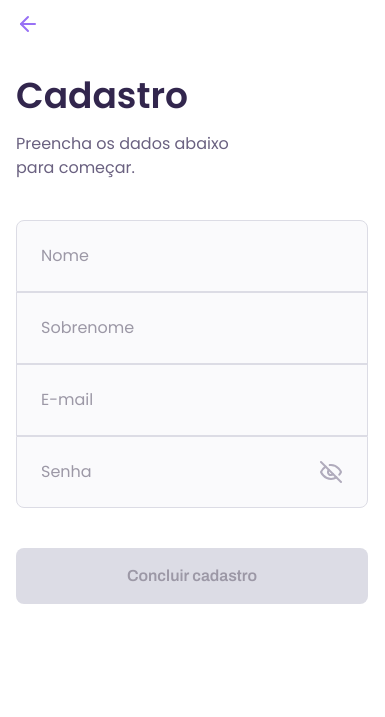
Test: Register Page › error messages should be displayed on blur when an input is filled incorrectly
Click the field labelled "Nome" at (192, 256), box 16,220 -> 368,292
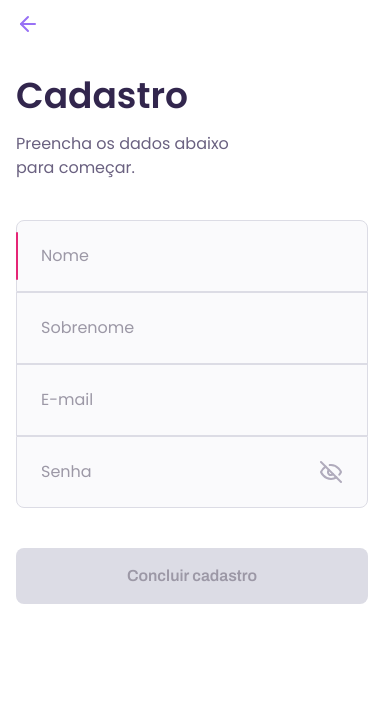
Press Tab
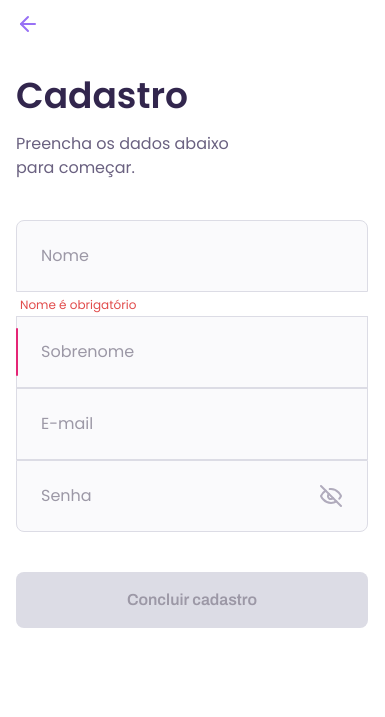
Press Tab
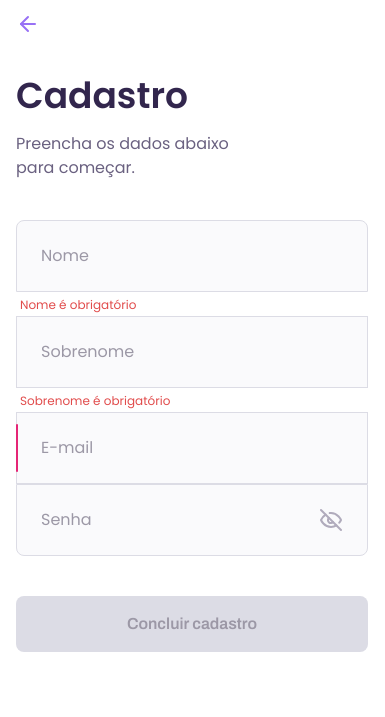
Type "john-doe.com" into the field labelled "E-mail" at (192, 448), box 16,412 -> 368,484
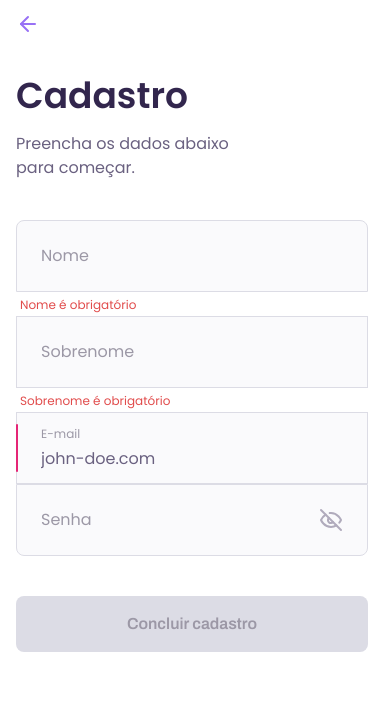
Type "123456" into the password field labelled "Senha" at (192, 520), box 16,484 -> 368,556
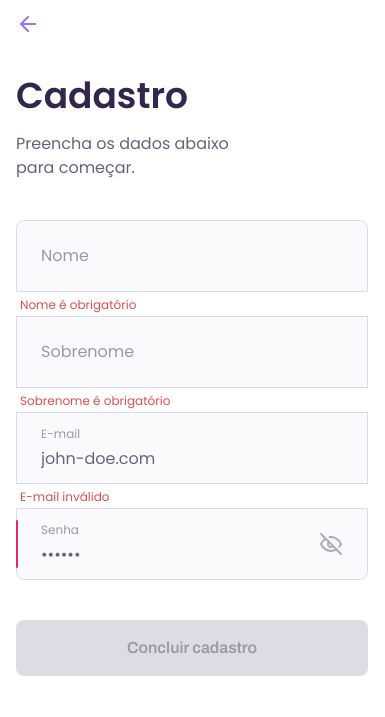
Press Tab
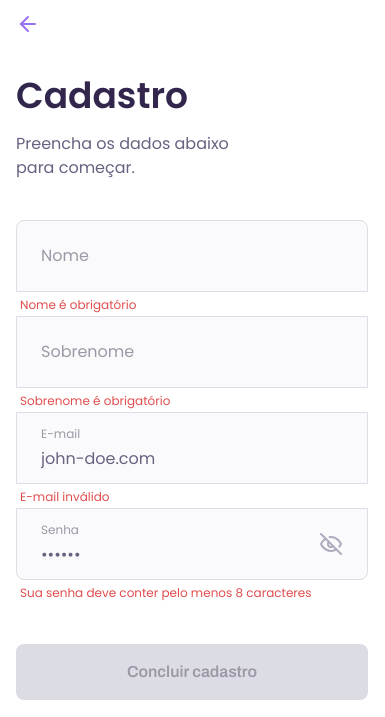
Now the number of messages is 4, box 20,296 -> 136,313; 20,392 -> 170,409; 20,488 -> 110,505; 20,584 -> 312,601
